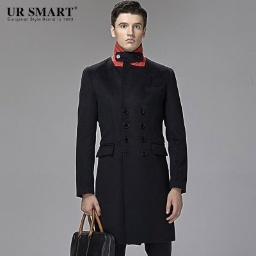face: (111, 2, 148, 53)
